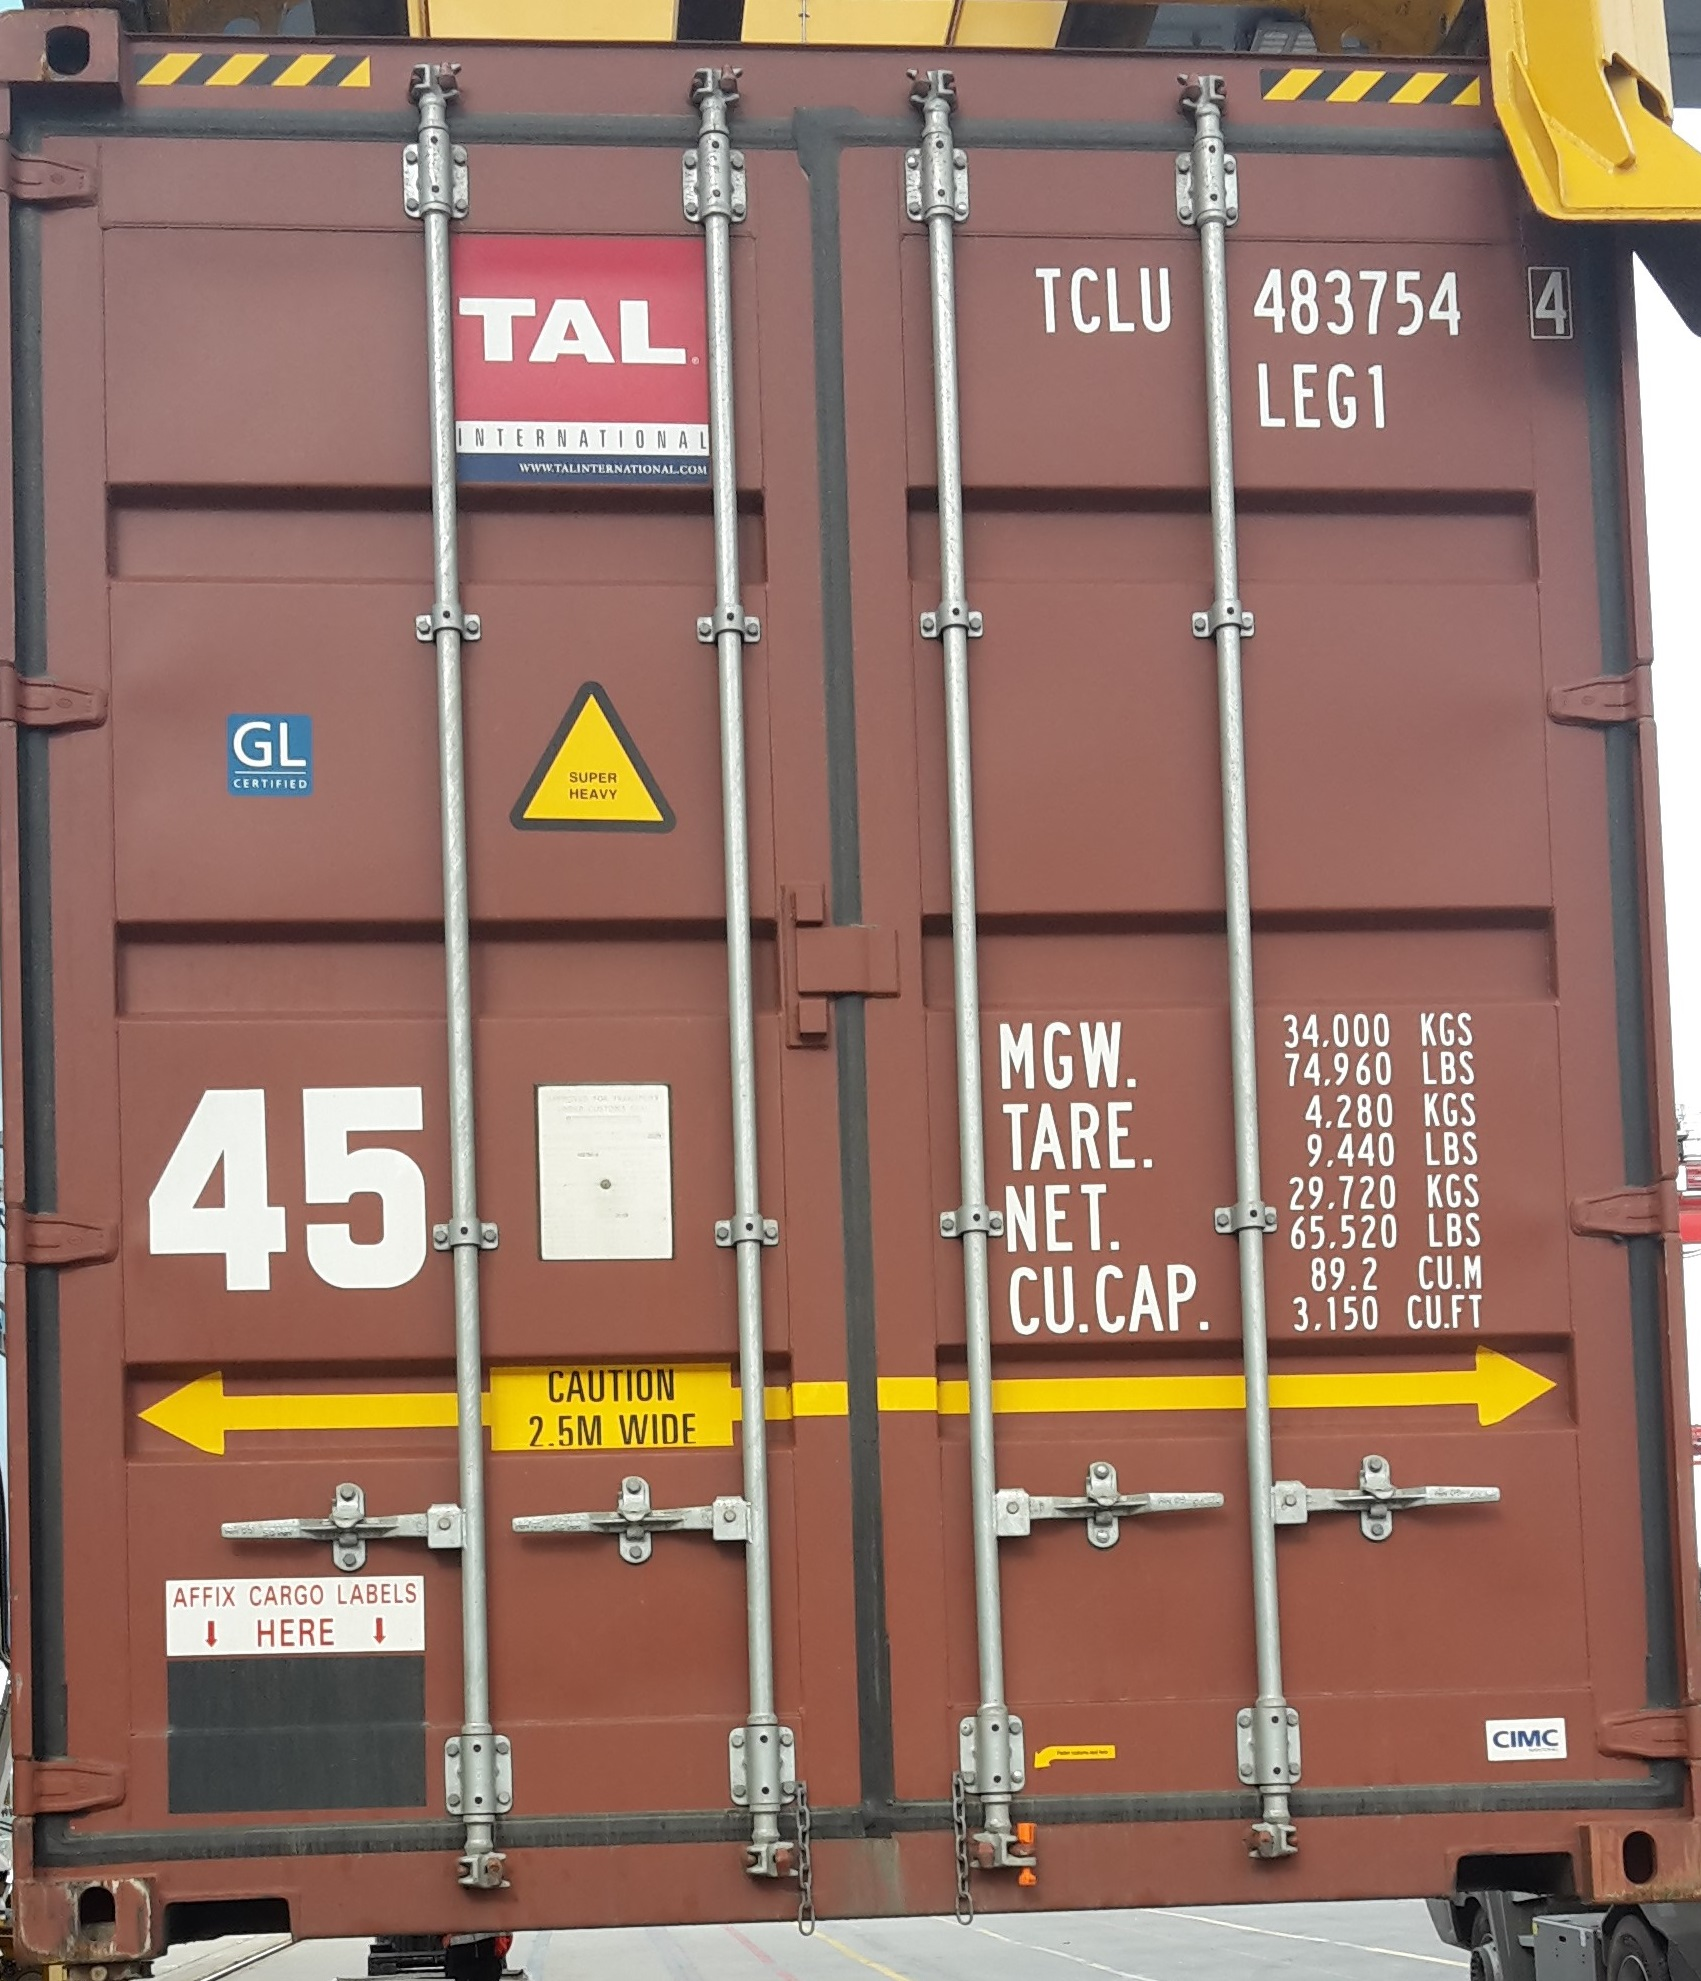container_door: (17, 19, 1672, 1946)
